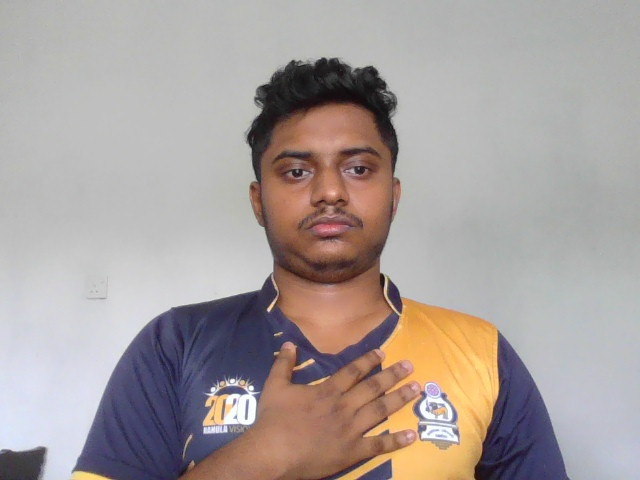Please: (246, 337, 426, 480)
